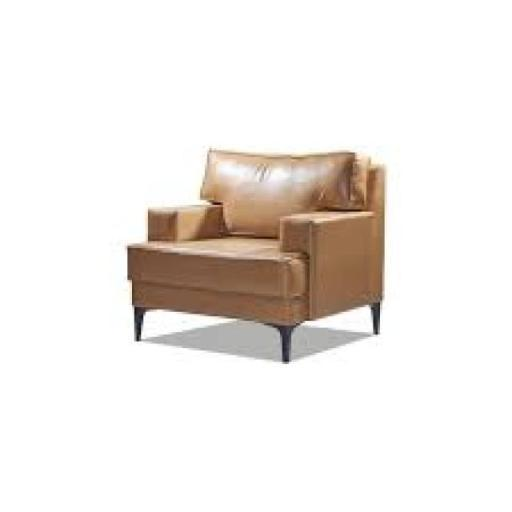sofa: (109, 120, 434, 401)
